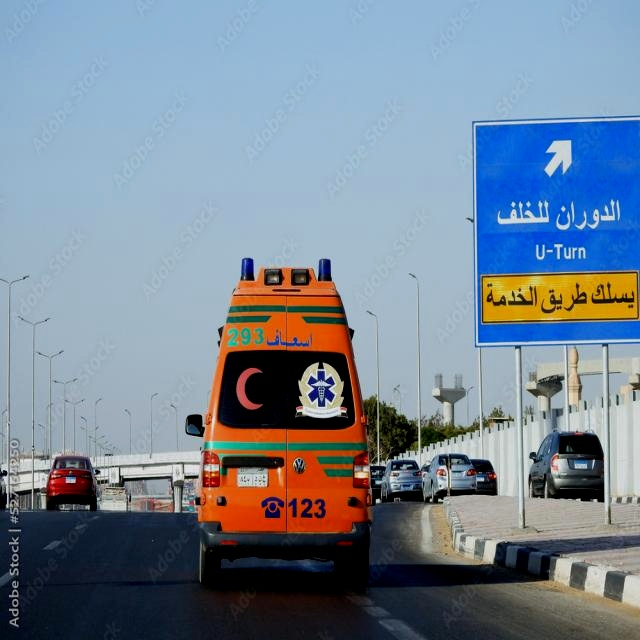Ambulance: (185, 256, 373, 586)
car: (528, 428, 604, 501), (45, 455, 98, 510), (423, 452, 477, 503), (379, 458, 422, 502), (469, 458, 496, 494), (370, 464, 386, 497)
